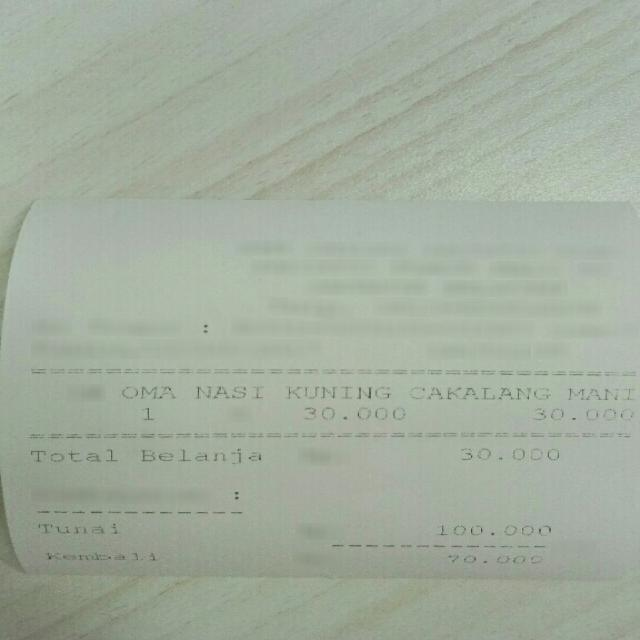kertas: (3, 200, 640, 580)
